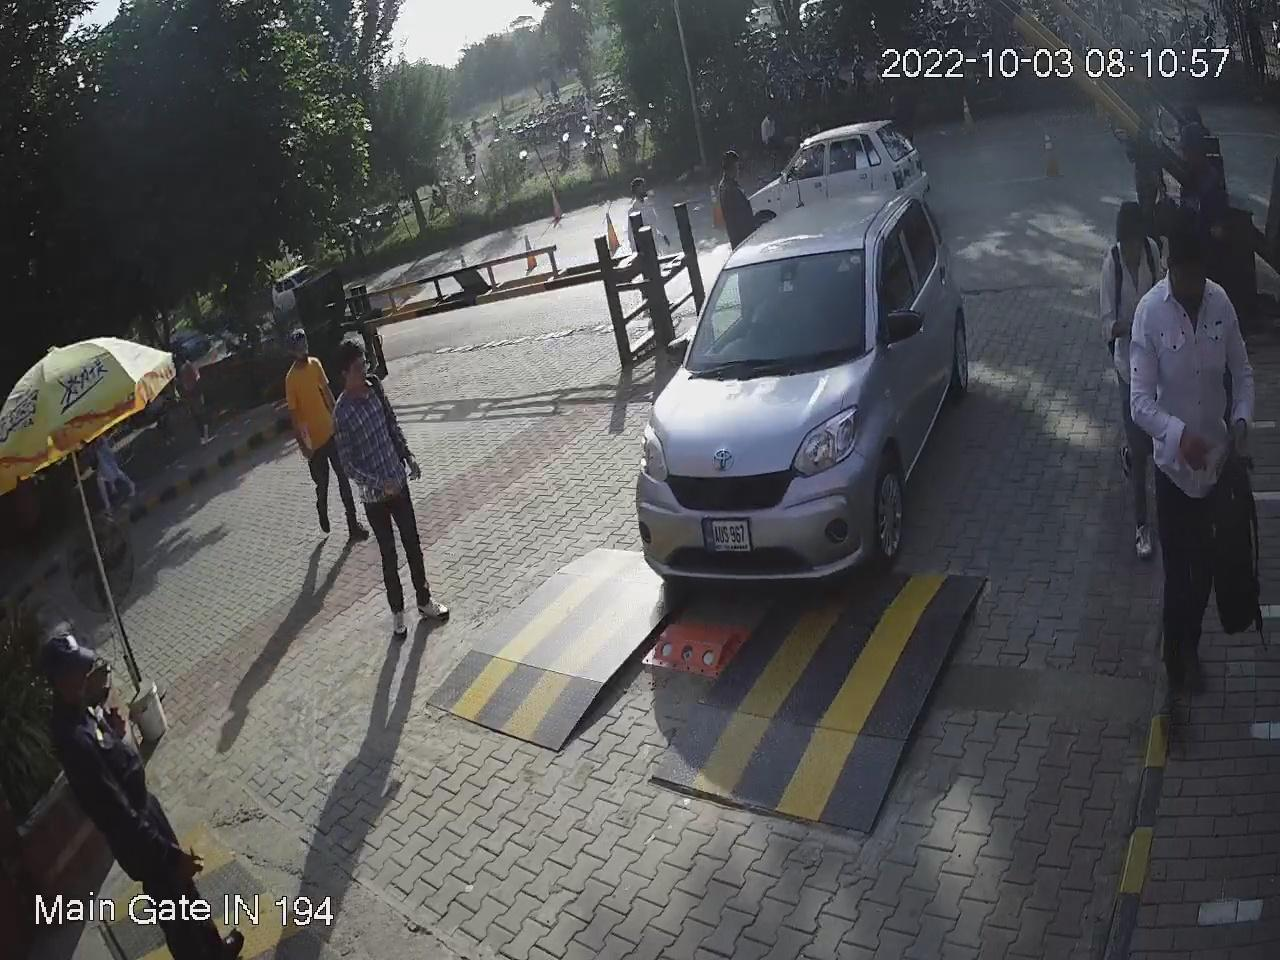windshield: (685, 240, 868, 375)
